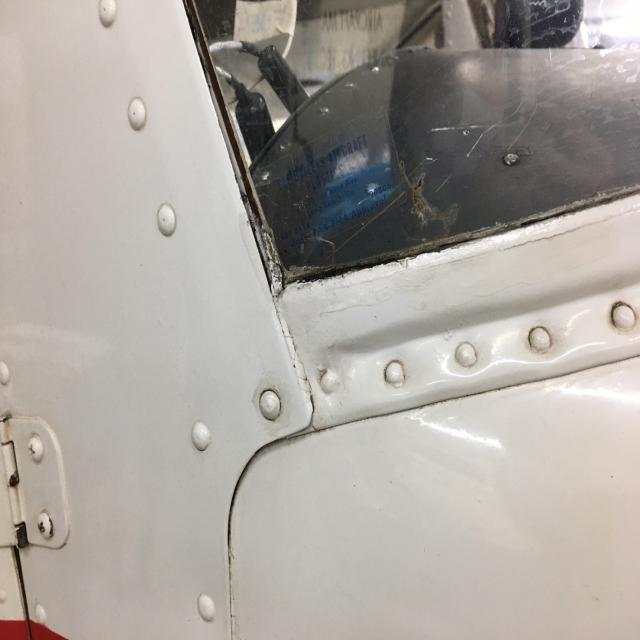Rupture: (483, 210, 638, 254), (239, 221, 300, 302)
